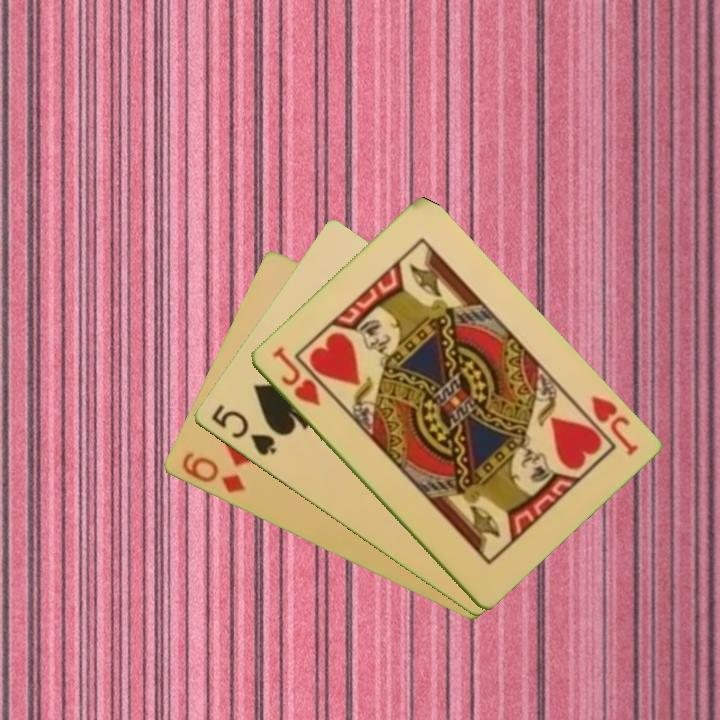5s: (207, 400, 280, 459)
6d: (178, 448, 248, 496)
Jh: (573, 392, 641, 459), (268, 343, 323, 410)
